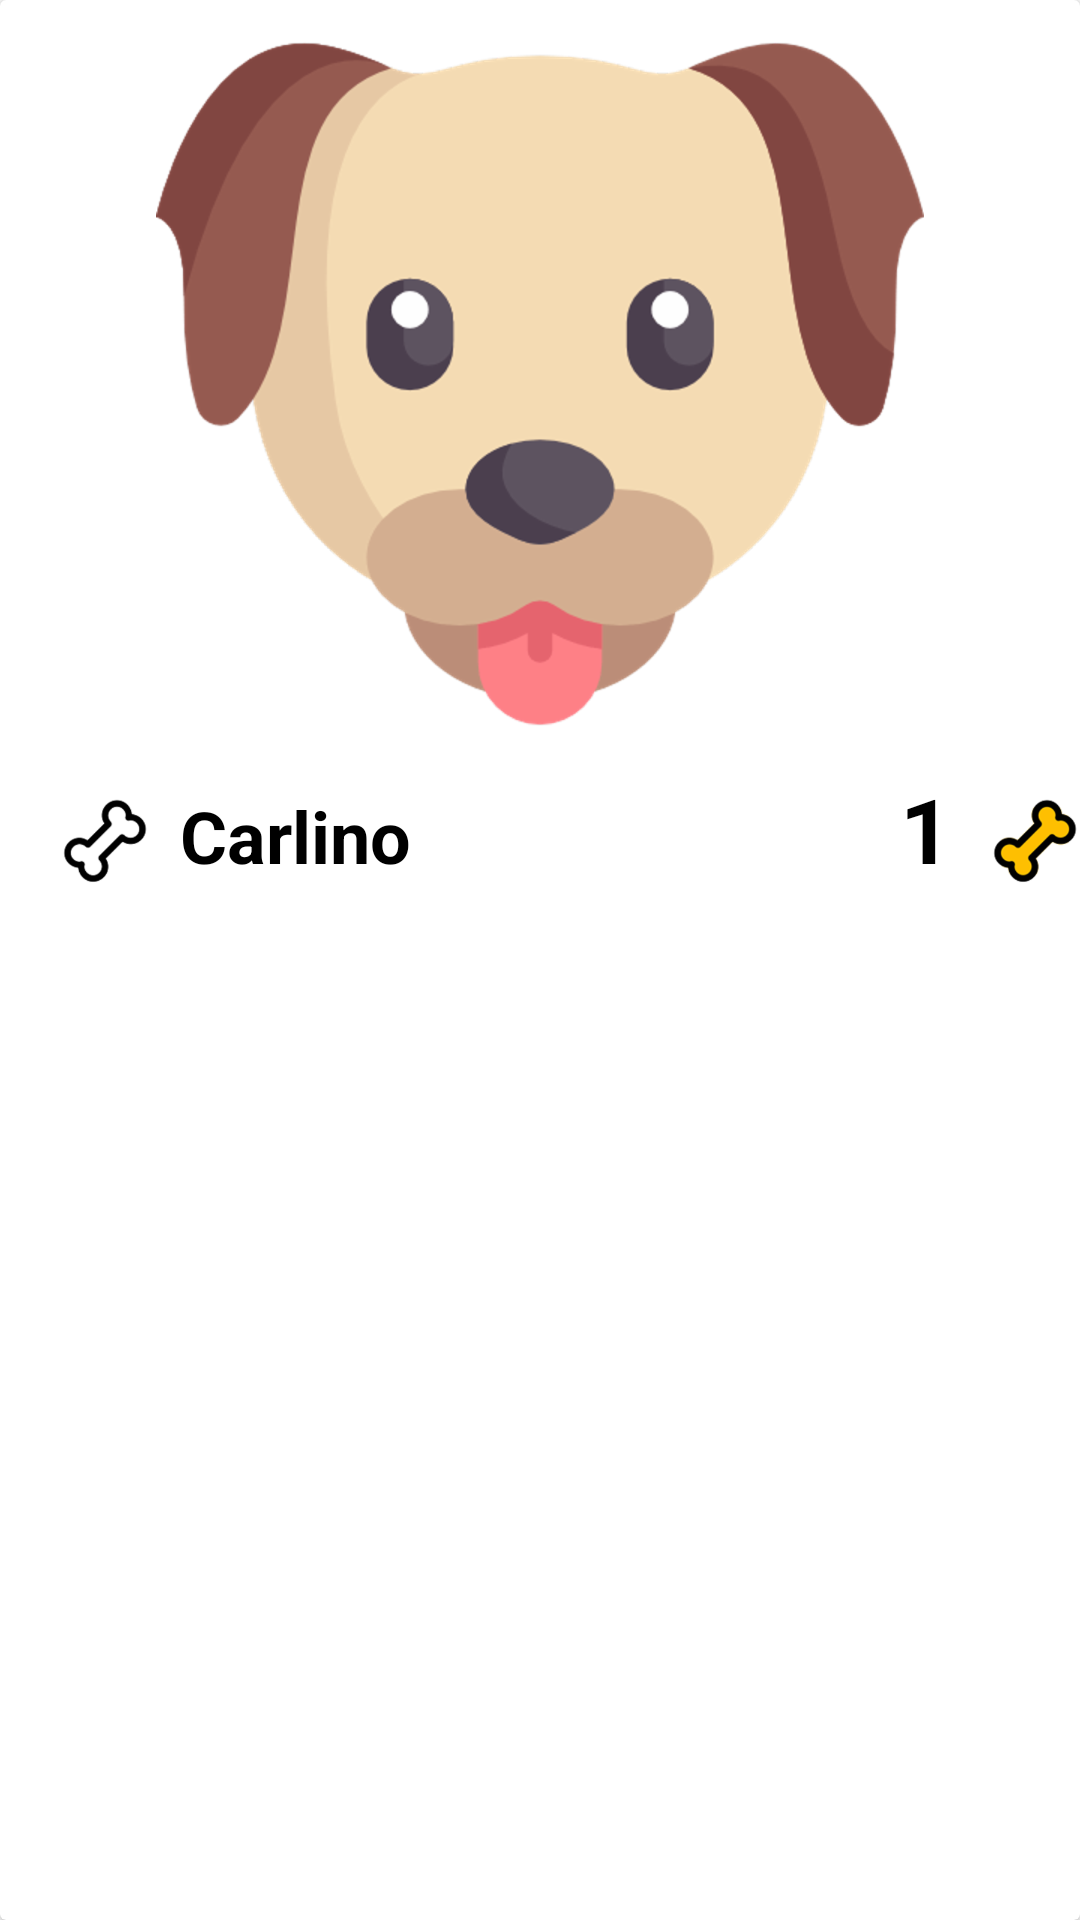

Where to tap for icons on this 1080 x 1920 app screen, as (x,y):
hueso: (105,841)
hueso amarillo: (1035,841)
